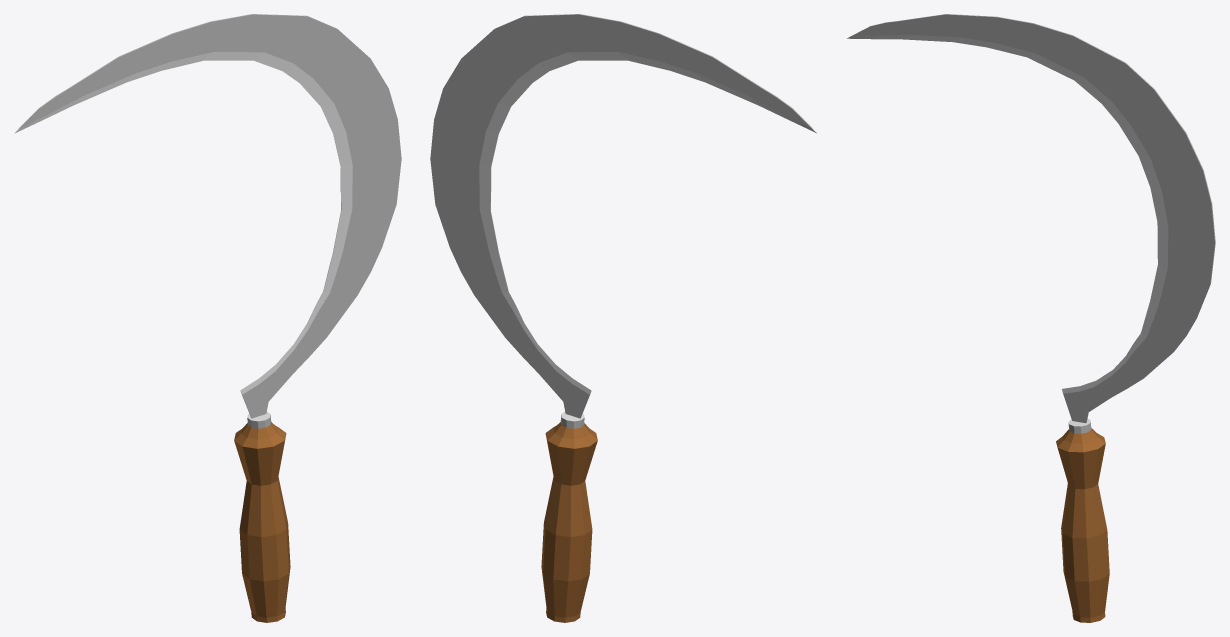
File: Sickel.fbx
The picture shows the model from 3 angles, left to right: view 1: azimuth 30°, elevation 25°; view 2: azimuth 150°, elevation 25°; view 3: azimuth 330°, elevation 25°; orthographic projection. The views are drawn at different scales.
Parts seen in each view (by area): view 1: Cylinder; view 2: Cylinder; view 3: Cylinder.
Boxes of the visible parts, x1,y1,x2,y2 form: Cylinder: (14, 14, 401, 622); Cylinder: (430, 14, 817, 622); Cylinder: (847, 14, 1215, 622).
Size of the model in its own units: 1153 by 1732 by 138.
